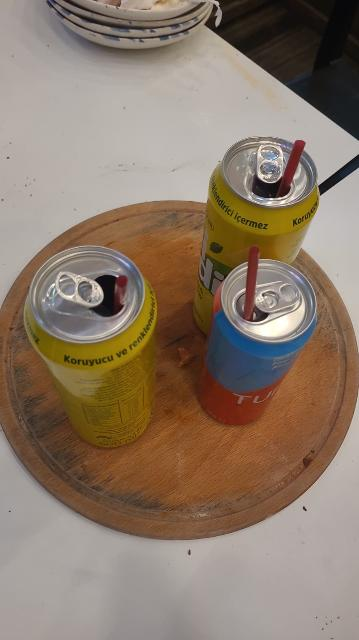Metal: (194, 137, 319, 421), (20, 244, 158, 444)
Plastik: (236, 246, 267, 323), (278, 136, 312, 192)
